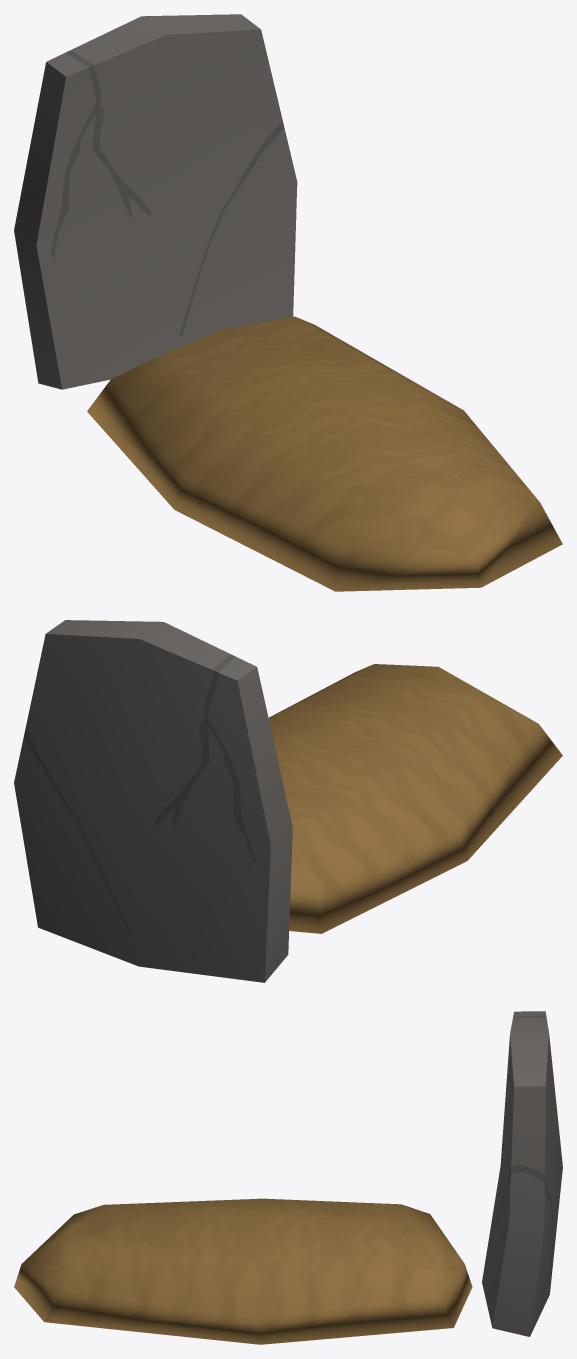
Rendered from Grave.fbx.
3 views of the same model, one above another, from view 1: azimuth 30°, elevation 25°; view 2: azimuth 150°, elevation 25°; view 3: azimuth 270°, elevation 25° (orthographic). The views are drawn at different scales.
Parts seen in each view (by area): view 1: pCube3; view 2: pCube3; view 3: pCube3.
Part boxes in pixels (bbox=[...]): pCube3: bbox=[14, 14, 562, 591]; pCube3: bbox=[14, 620, 562, 982]; pCube3: bbox=[14, 1011, 562, 1344].
Bounding box in the file's own units: 130 × 142 × 262.
